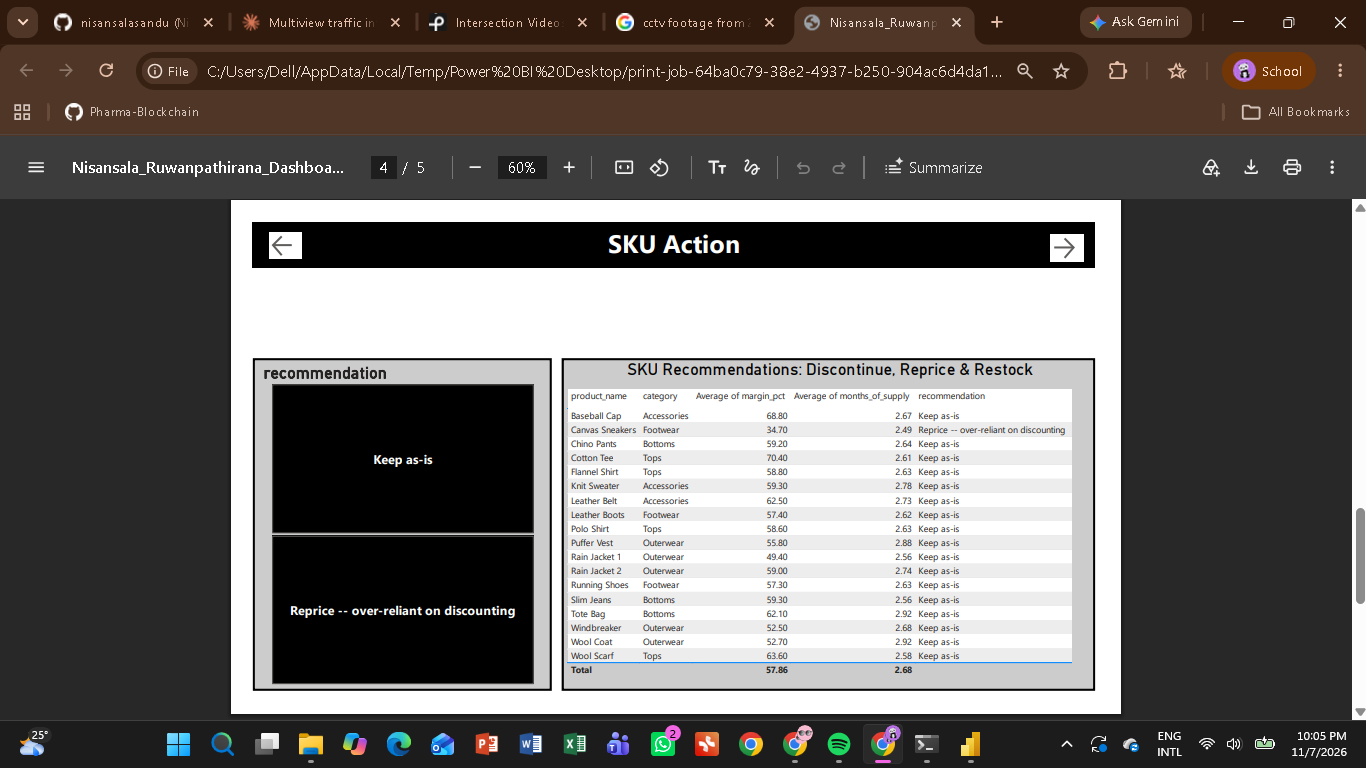

The dashboard page shown, as its layout file describes it:
{"tool":"powerbi","page":{"name":"SKU Action","canvas":[1280,720],"ordinal":3},"visuals":[{"type":"tableEx","title":"SKU Recommendations: Discontinue, Reprice & Restock","fields":{"Values":["sku_summary.product_name","sku_summary.category","Avg(sku_summary.margin_pct)","Avg(sku_summary.months_of_supply)","sku_summary.recommendation"]},"box":[469.6,213.6,794.1,494.1],"z":0},{"type":"slicer","fields":{"Values":["sku_summary.recommendation"]},"box":[9.8,213.6,445.2,494.1],"z":1000},{"type":"textbox","box":[9.8,13,1253.9,66.9],"z":2000},{"type":"actionButton","box":[1197.4,30.2,49.7,40.8],"z":3000},{"type":"actionButton","box":[33.7,26.6,49.7,40.8],"z":4000}]}

Visuals, with their boxes on the page's 1280x720 design canvas (x1, y1, x2, y2). These are canvas units, not pixel positions in the 1366x768 screenshot, which may show the page scaled, cropped or inside an application window:
"SKU Recommendations: Discontinue, Reprice & Restock" tableEx: detection(470, 214, 1264, 708)
slicer - sku_summary.recommendation: detection(10, 214, 455, 708)
textbox: detection(10, 13, 1264, 80)
actionButton: detection(1197, 30, 1247, 71)
actionButton: detection(34, 27, 83, 67)
